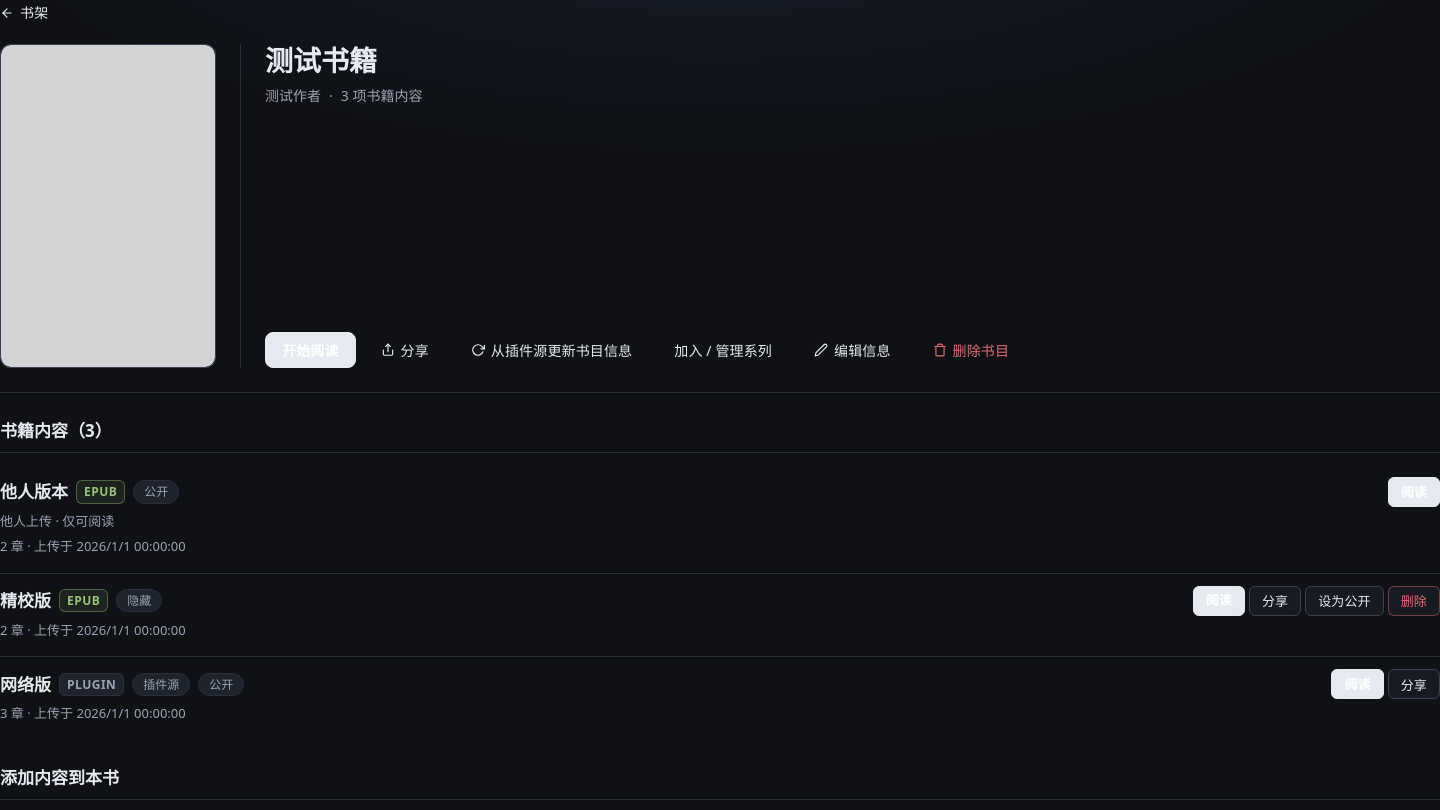
opens the picker from the normal book hero without sharing other users' uploads
expect the heading "测试书籍" is shown: met, box left=265, top=41, right=377, bottom=79
Click the button "分享" below "测试作者" at (405, 350), box left=364, top=332, right=446, bottom=368
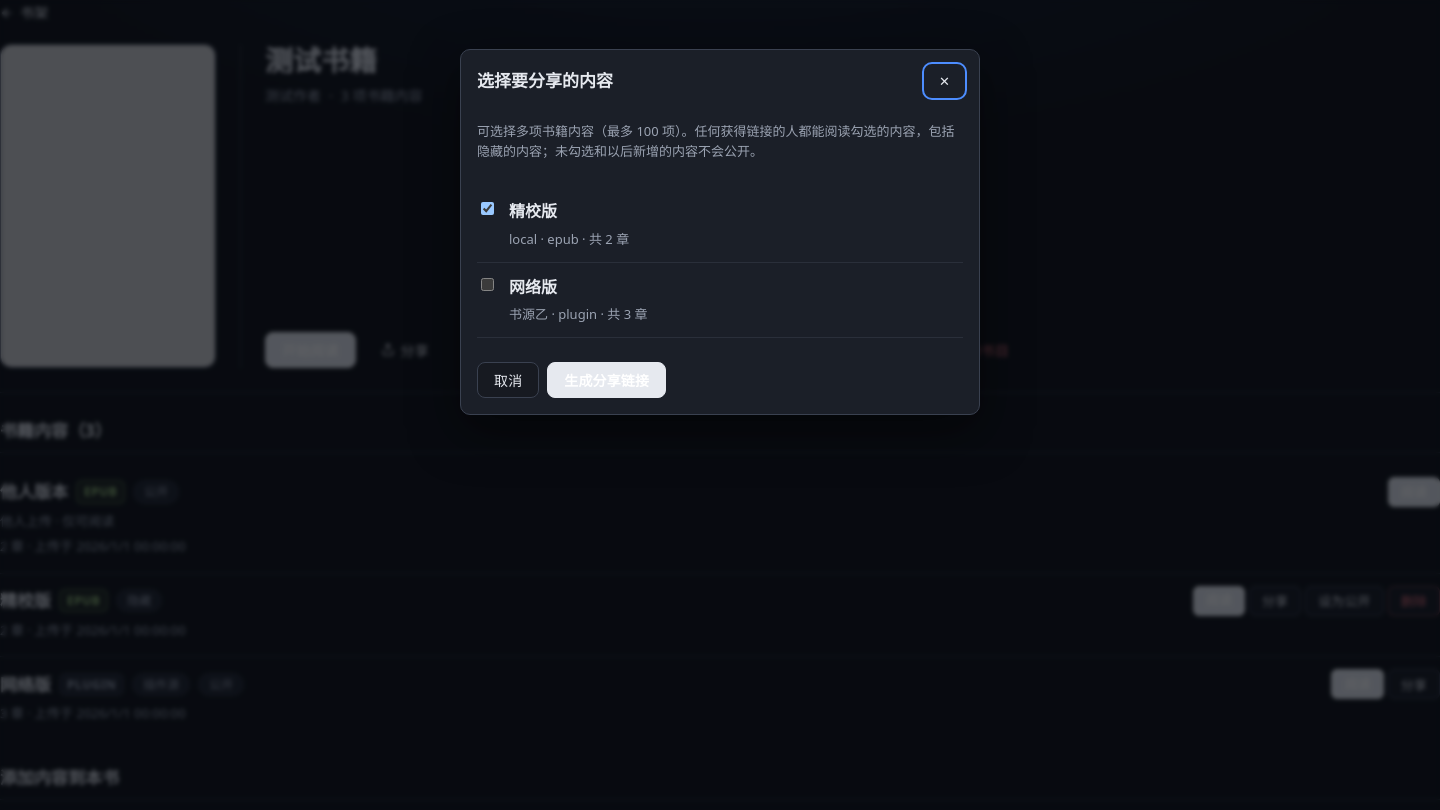
expect the checkbox labelled "精校版 local · epub · 共 2 章" is checked: met, box left=481, top=202, right=494, bottom=215
expect the checkbox labelled "网络版 书源乙 · plugin · 共 3 章" is not checked: met
Click the checkbox labelled "网络版 书源乙 · plugin · 共 3 章" at (488, 284), box left=481, top=278, right=494, bottom=291
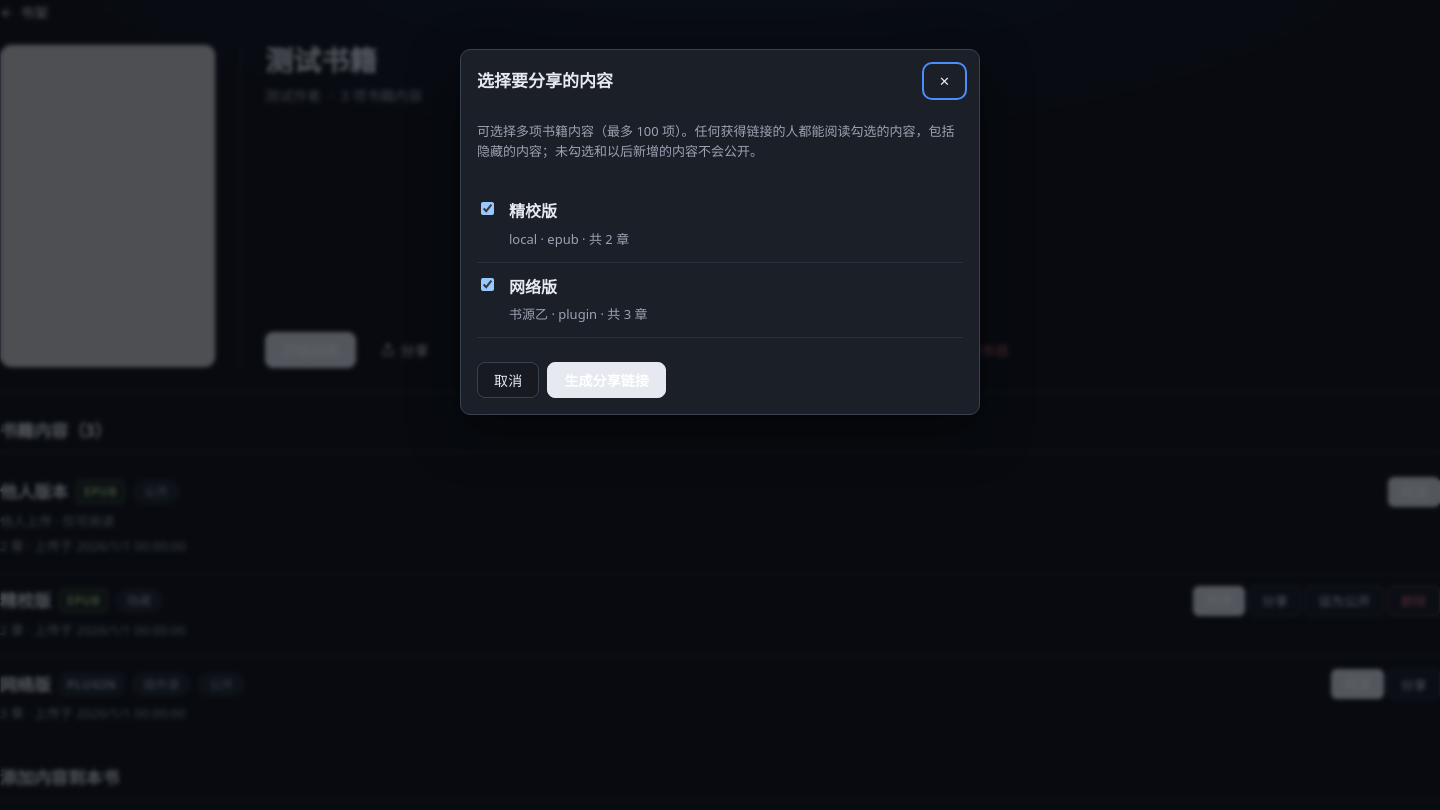
Click the button "生成分享链接" at (607, 380), box left=547, top=362, right=666, bottom=398
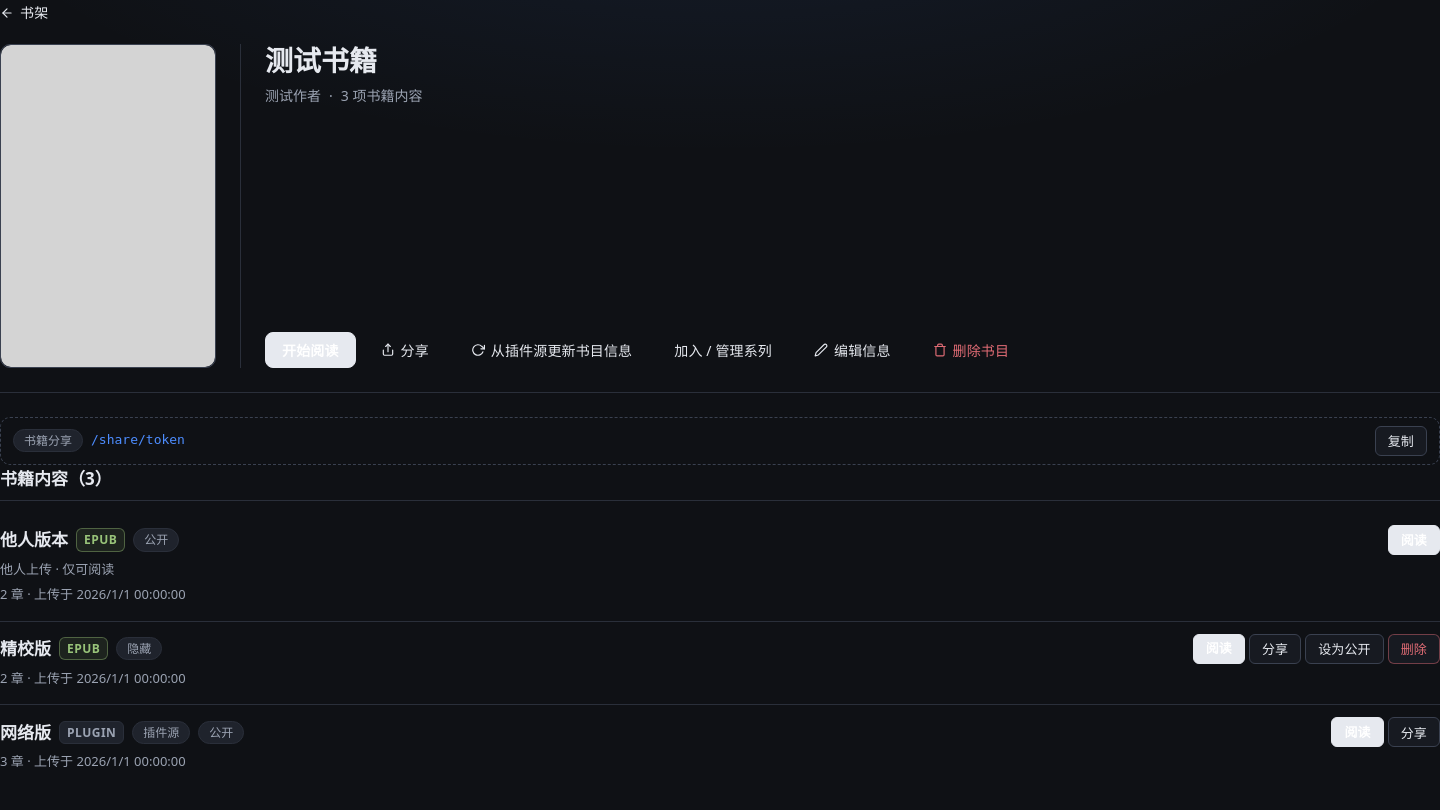
expect the dialog is gone: met
expect the text "/share/token" is shown: met, box left=91, top=432, right=185, bottom=447
